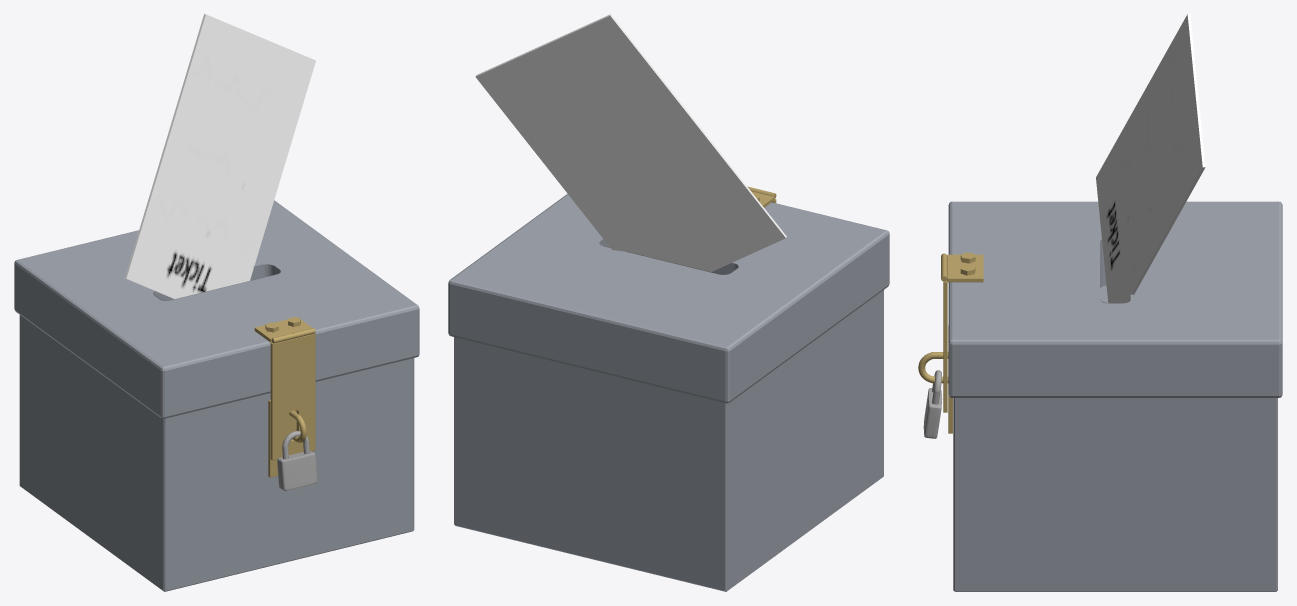
Rendered from ballot_box 1.fbx.
The picture shows the model from 3 angles, left to right: view 1: azimuth 30°, elevation 25°; view 2: azimuth 150°, elevation 25°; view 3: azimuth 270°, elevation 25°; orthographic projection. The views are drawn at different scales.
Visible parts, largest first — view 1: beschlag_seite_2, pCube1; view 2: beschlag_seite_2, pCube1; view 3: beschlag_seite_2, pCube1.
Boxes of the visible parts, x1=… form: beschlag_seite_2: x1=14, y1=200, x2=419, y2=591; pCube1: x1=125, y1=14, x2=315, y2=299; beschlag_seite_2: x1=448, y1=186, x2=889, y2=591; pCube1: x1=475, y1=14, x2=786, y2=271; beschlag_seite_2: x1=918, y1=201, x2=1282, y2=591; pCube1: x1=1096, y1=14, x2=1205, y2=303.
Size of the model in its own units: 11.27 by 18.78 by 11.89.
Materials: 4 (1 with a texture image).
